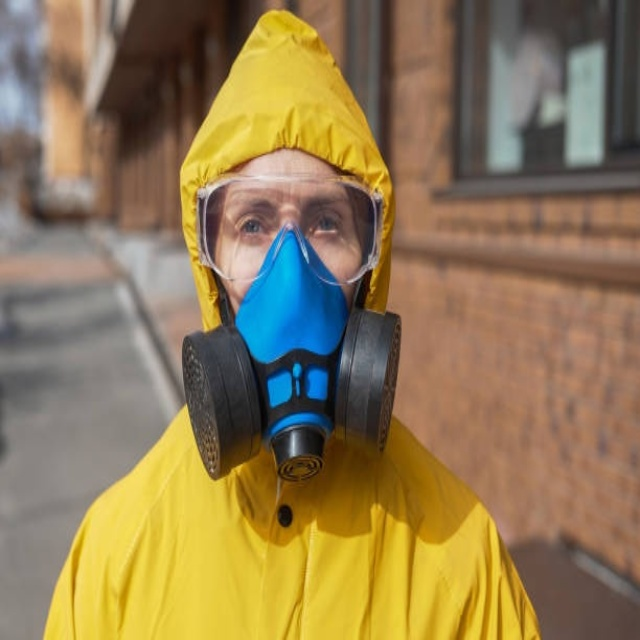Gafas: (194, 174, 385, 286)
Mascara: (176, 220, 407, 496)
